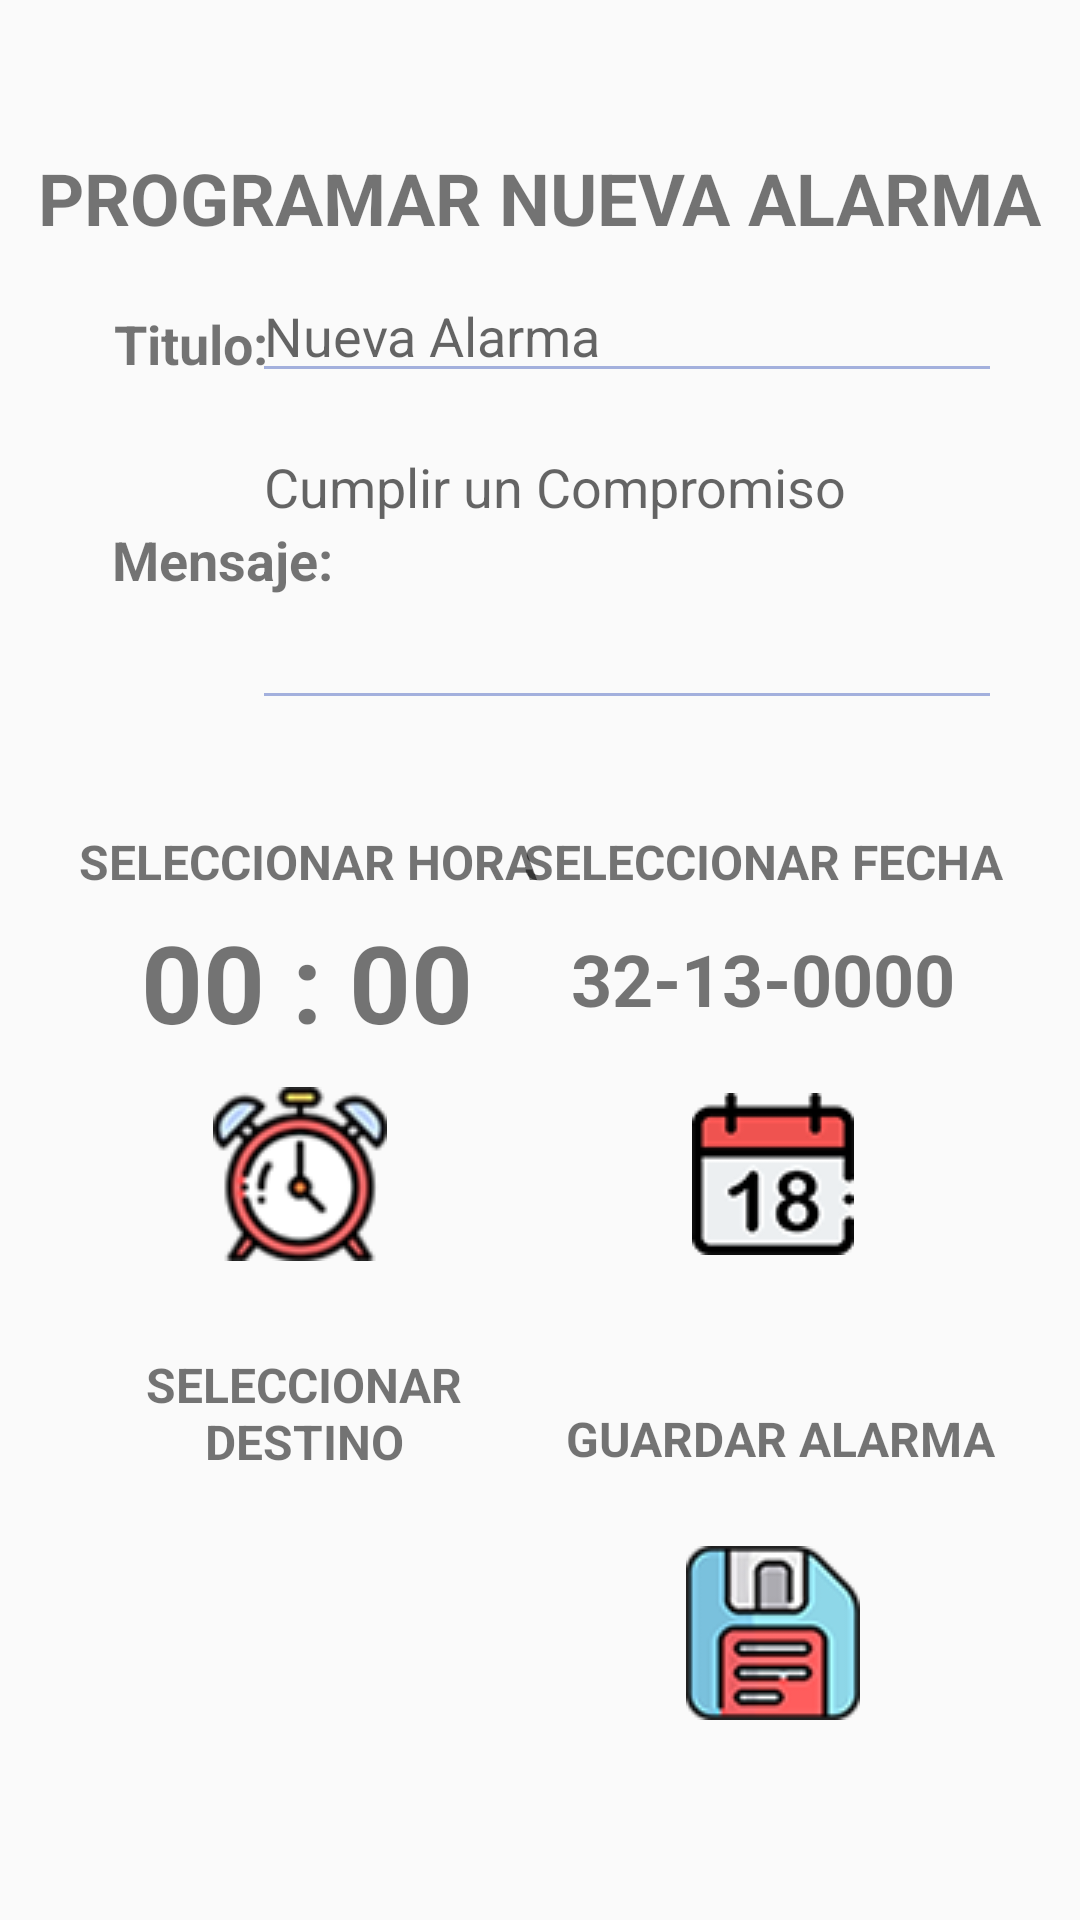

Where to tap for icons on this 1080 x 1920 app screen, as (x,y):
calend: (773,1174)
reloj: (300,1174)
